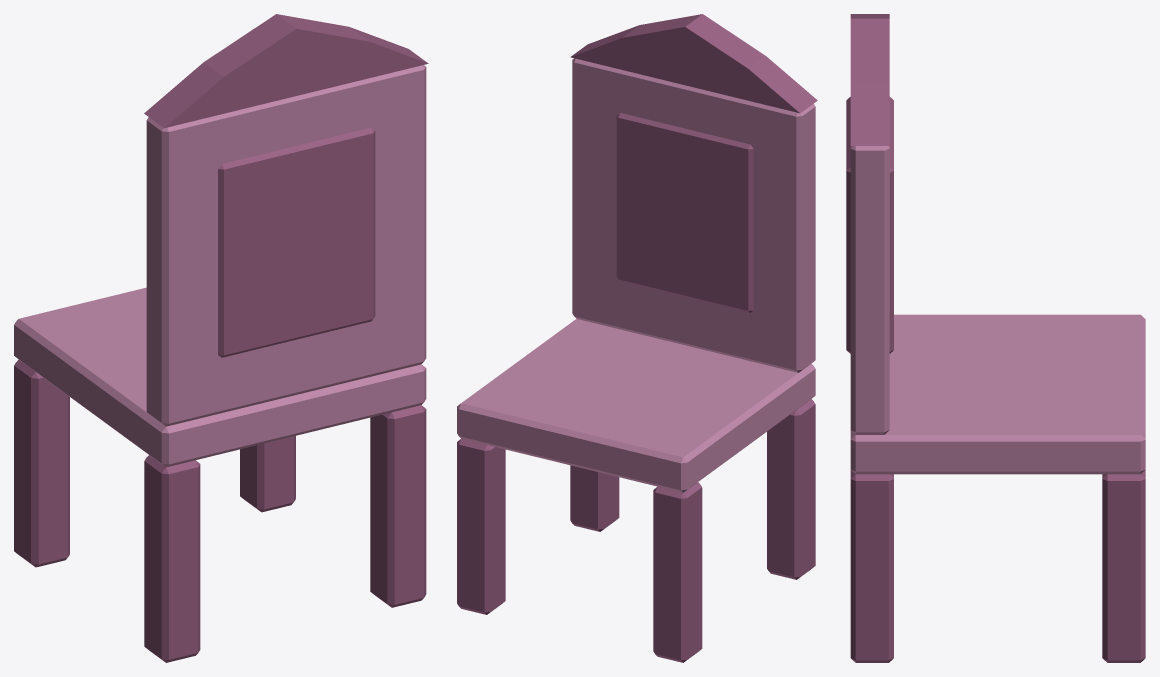
The model's file is pink_dungeon_chair_v0.glb.
3 views of the same model, side by side, from view 1: azimuth 30°, elevation 25°; view 2: azimuth 150°, elevation 25°; view 3: azimuth 270°, elevation 25° (orthographic). The views are drawn at different scales.
Parts seen in each view (by area): view 1: pink_dungeon_chair_v0; view 2: pink_dungeon_chair_v0; view 3: pink_dungeon_chair_v0.
Part boxes in pixels (x1,y1,x2,y2): pink_dungeon_chair_v0: (14, 14, 428, 662); pink_dungeon_chair_v0: (457, 14, 817, 662); pink_dungeon_chair_v0: (846, 14, 1145, 662).
Bounding box in the file's own units: 0.68 × 1.49 × 0.69.
